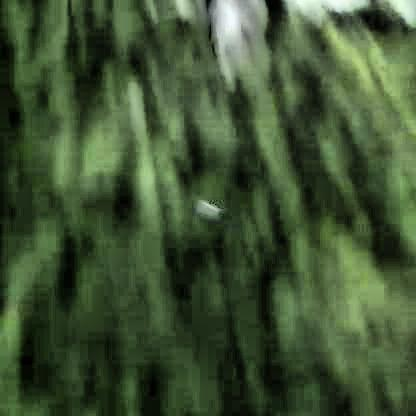golfball: (195, 201, 219, 219)
